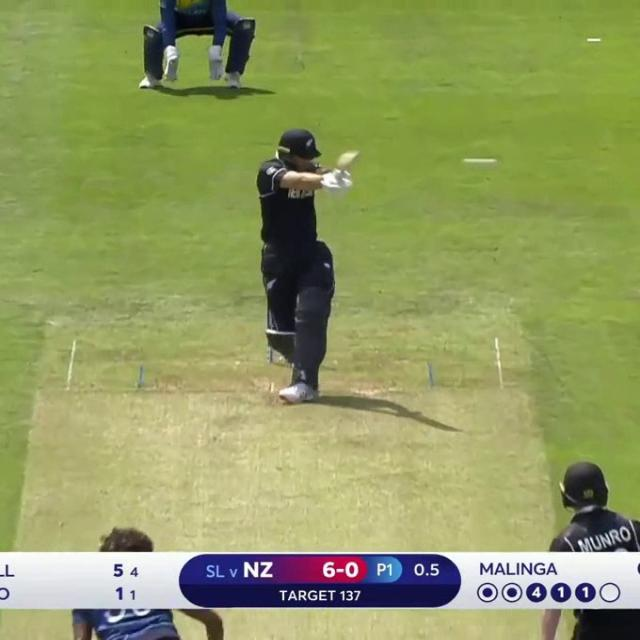bat: (331, 149, 362, 174)
